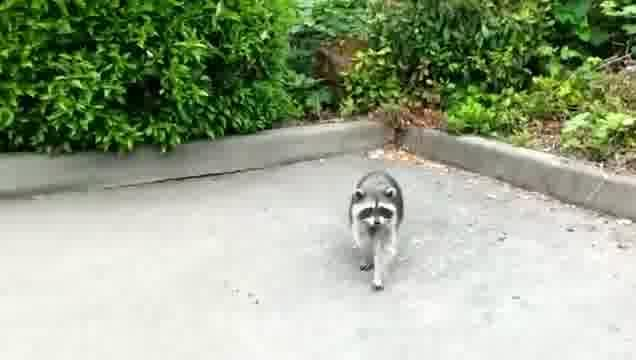raccoon: (347, 170, 405, 290)
